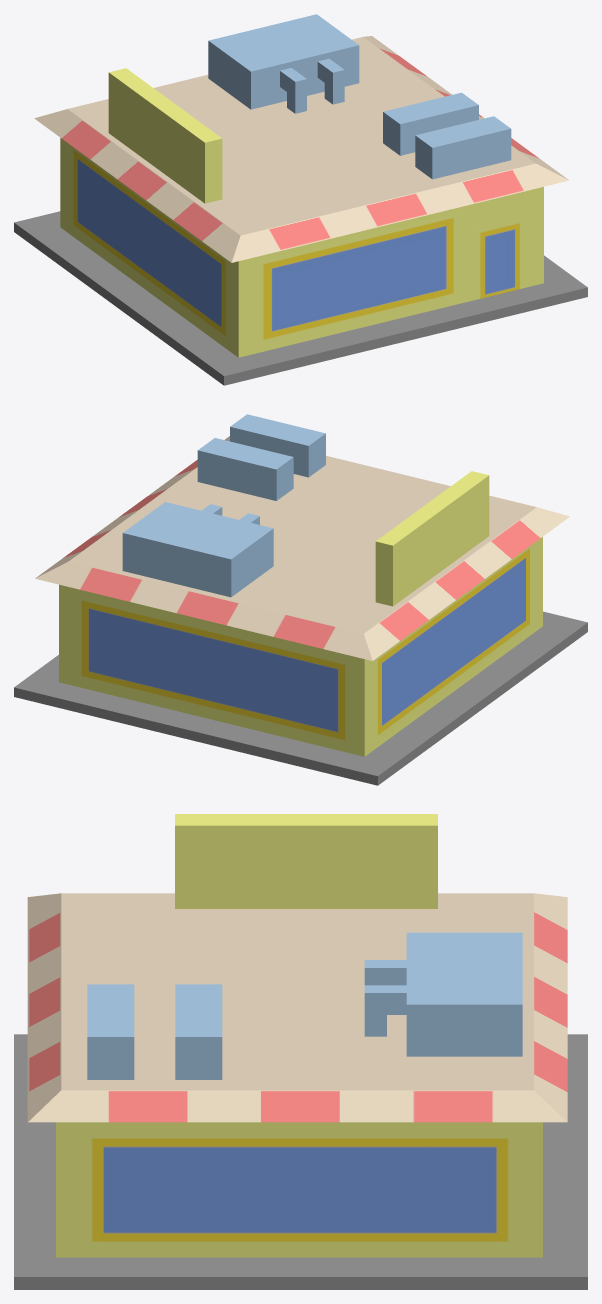
The model's file is Super_Market_2.FBX.
3 views of the same model, one above another, from view 1: azimuth 30°, elevation 25°; view 2: azimuth 150°, elevation 25°; view 3: azimuth 270°, elevation 25° (orthographic). The views are drawn at different scales.
Visible parts, largest first — view 1: Box014, Box002; view 2: Box014, Box002; view 3: Box014, Box002.
Boxes of the visible parts, box(x1,y1,x2,y2) form: Box014: box(34, 14, 569, 357); Box002: box(14, 211, 587, 385); Box014: box(35, 414, 569, 756); Box002: box(14, 611, 587, 785); Box014: box(27, 814, 567, 1257); Box002: box(14, 1034, 587, 1289).
Size of the model in its own units: 2 by 0.9985 by 2.
5 materials, 4 textured.
